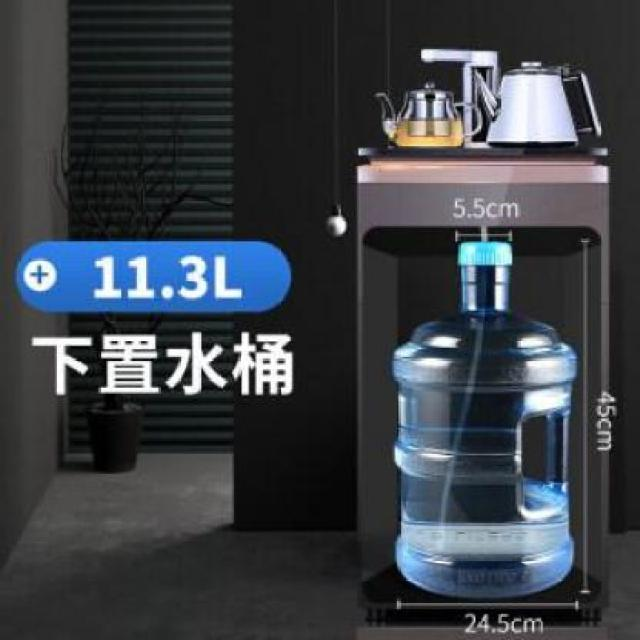coolerbottle: (388, 240, 582, 606)
